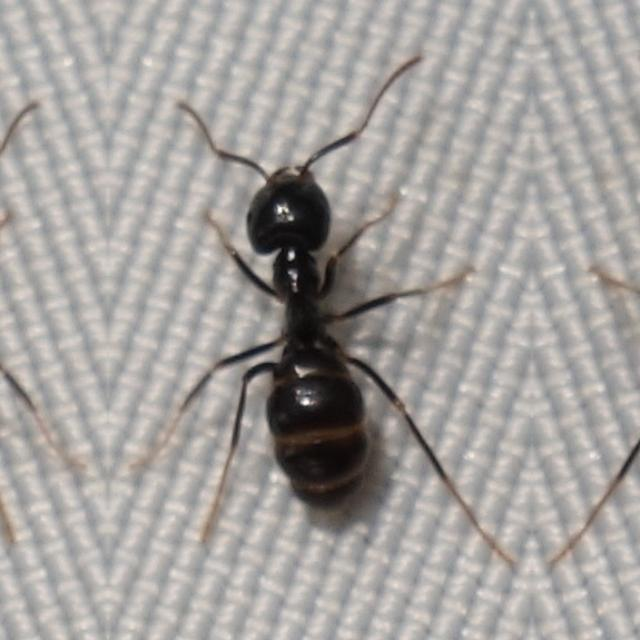Lasius: (140, 75, 442, 522), (0, 74, 74, 522)
